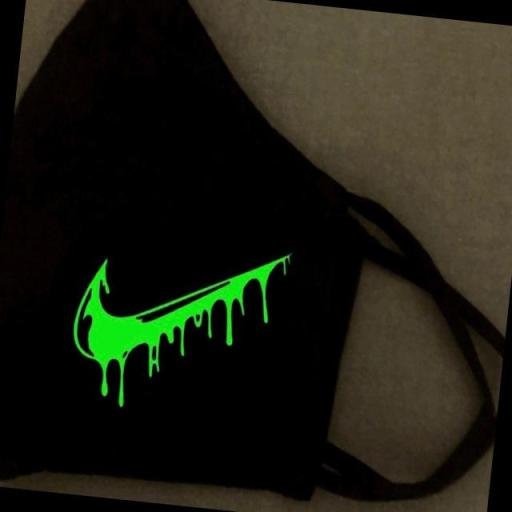Nike: (72, 228, 294, 380)
